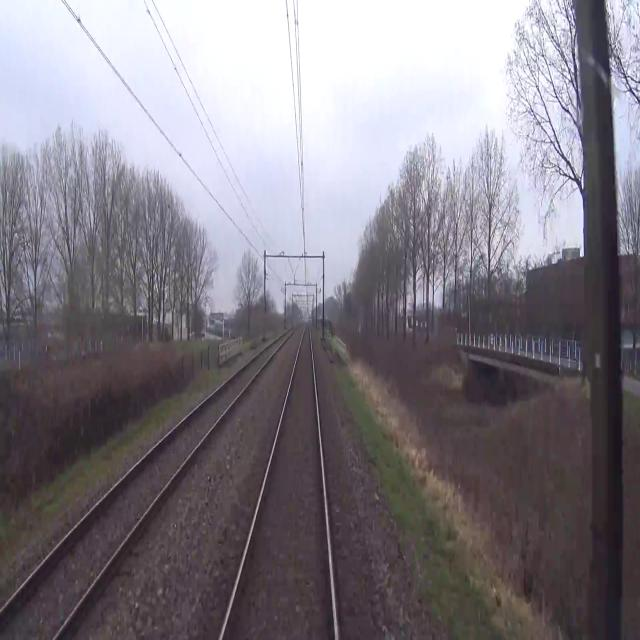rail-track: (0, 332, 289, 639), (224, 325, 333, 639)
